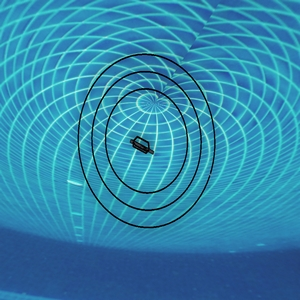circle: (72, 48, 217, 236)
submarine: (127, 132, 153, 155)
